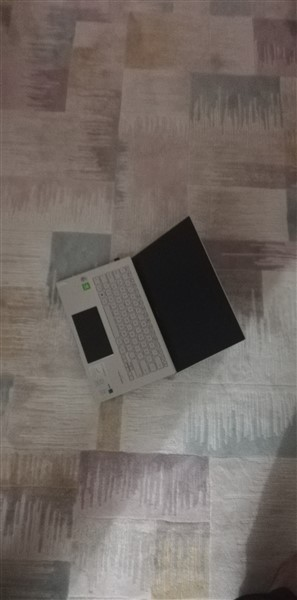laptop: (53, 216, 249, 407)
